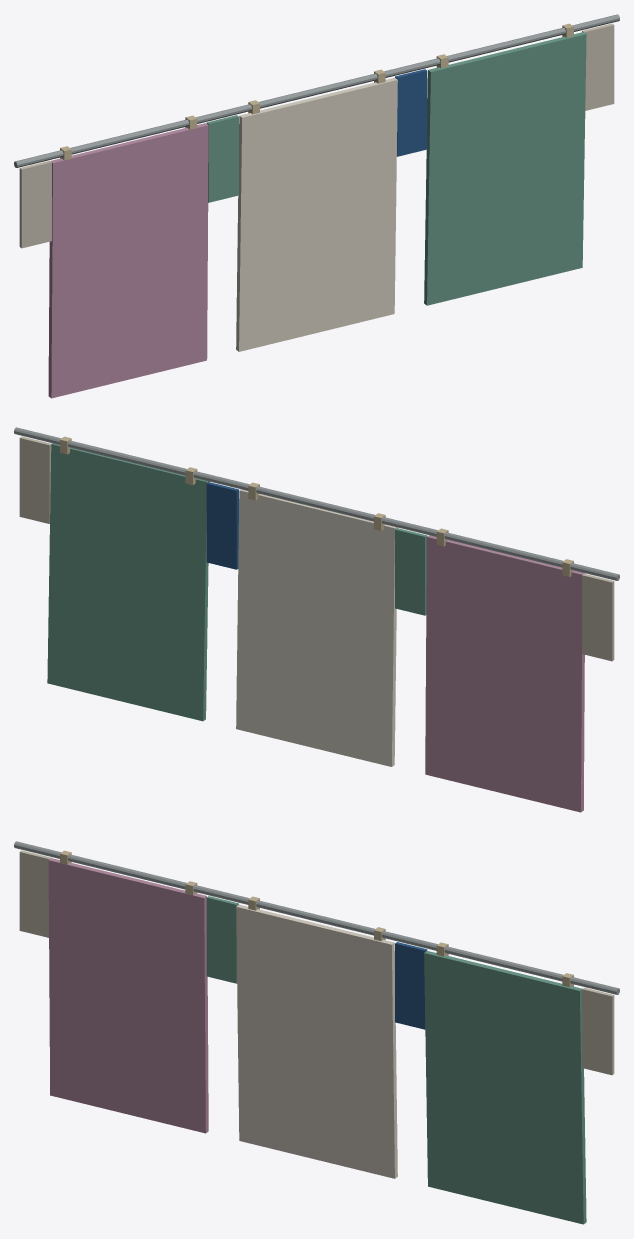
Rendered from day_phoi_b.glb.
3 renders of one model, top to bottom at view 1: azimuth 30°, elevation 25°; view 2: azimuth 150°, elevation 25°; view 3: azimuth 330°, elevation 25°, orthographic.
Visible parts, largest first — view 1: day_phoi_b; view 2: day_phoi_b; view 3: day_phoi_b.
Part boxes in pixels (<box>): day_phoi_b: <box>14,14,619,398</box>; day_phoi_b: <box>14,427,619,812</box>; day_phoi_b: <box>14,841,619,1224</box>.
Size of the model in its own units: 2.4 by 0.9351 by 0.0466.
